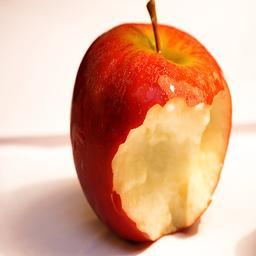apple: (68, 17, 233, 238)
